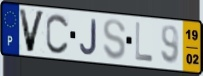9: (160, 24, 180, 66)
C: (45, 12, 70, 56)
J: (79, 18, 98, 56)
L: (134, 21, 154, 64)
S: (102, 18, 127, 62)
V: (17, 7, 47, 54)
